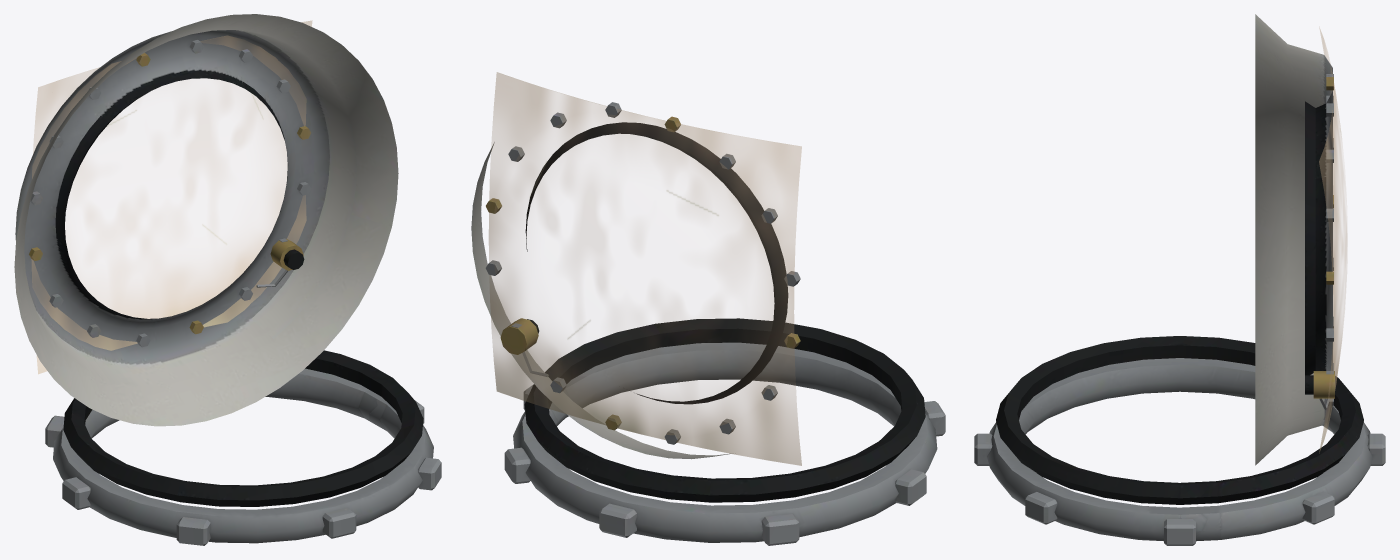
The model's file is pressure_helmet_rim.glb.
3 views of the same model, side by side, from view 1: azimuth 30°, elevation 25°; view 2: azimuth 150°, elevation 25°; view 3: azimuth 270°, elevation 25° (orthographic). The views are drawn at different scales.
Visible parts, largest first — view 1: lod0, visor_glass; view 2: lod0, visor_glass; view 3: lod0, visor_glass.
Boxes of the visible parts, x1,y1,x2,y2 form: lod0: (14,14,441,545); visor_glass: (31,20,312,373); lod0: (471,102,945,545); visor_glass: (489,72,801,465); lod0: (974,14,1385,545); visor_glass: (1319,27,1347,453).
Bounding box in the file's own units: 0.42 × 0.4389 × 0.382.
Materials: 2 (2 with a texture image).
